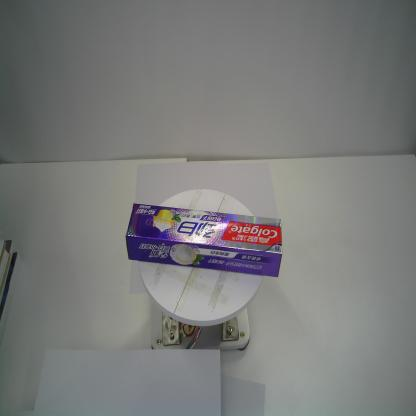Personal Hygiene: (125, 202, 283, 278)
